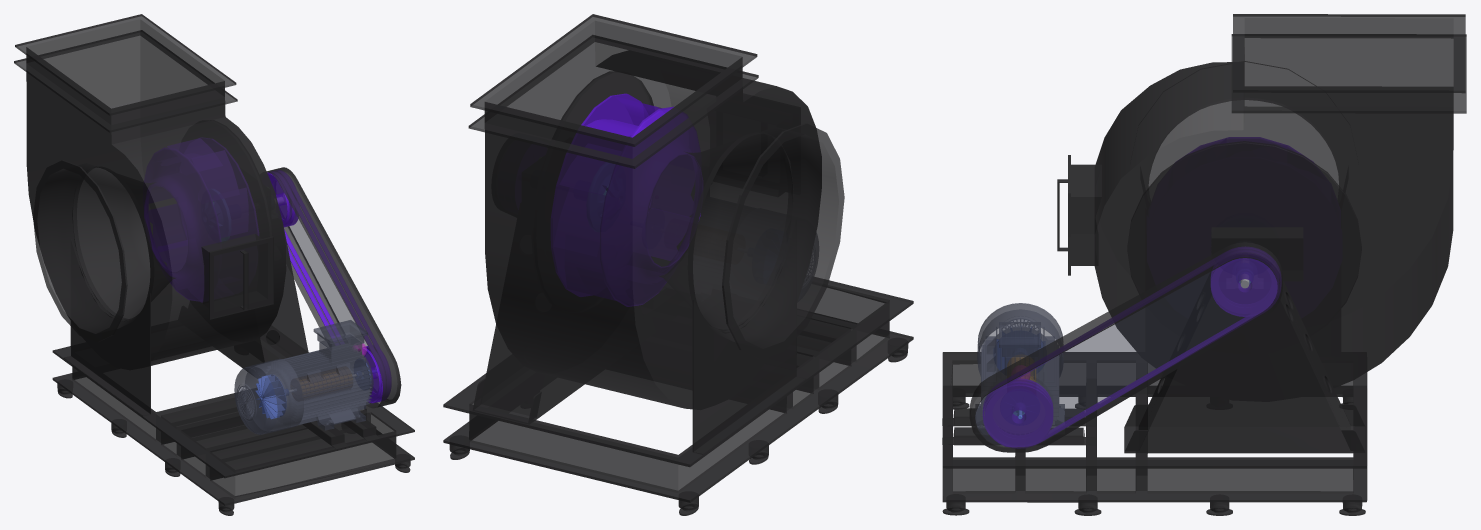
The model's file is newfan1026-movie.glb.
3 renders of one model, left to right at view 1: azimuth 30°, elevation 25°; view 2: azimuth 150°, elevation 25°; view 3: azimuth 270°, elevation 25°, orthographic. The views are drawn at different scales.
Parts seen in each view (by area): view 1: out2.fj, zj, out1.fj, p1.fj, out1.pd, out2.dj, out1.dj, p3.pd, out2.pd, out3.dj, p1.dj, p1.pd (+2 smaller); view 2: out2.fj, zj, out1.fj, p1.fj; view 3: out2.fj, zj, out2.pd, out1.pd, p2.pd, p3.pd, p1.pd, out2.dj, out3.fj, out1.dj, out3.dj.
Part boxes in pixels (box(x1,y1,x2,y2)): out2.fj: box(14, 14, 286, 365); zj: box(52, 221, 414, 515); out1.fj: box(33, 160, 174, 342); p1.fj: box(144, 138, 258, 301); out1.pd: box(266, 167, 401, 408); out2.dj: box(266, 346, 373, 426); out1.dj: box(234, 358, 303, 434); p3.pd: box(267, 170, 390, 403); out2.pd: box(288, 219, 367, 346); out3.dj: box(313, 320, 367, 362); p1.dj: box(255, 374, 286, 419); p1.pd: box(268, 173, 298, 227); out2.fj: box(468, 14, 821, 409); zj: box(443, 220, 913, 515); out1.fj: box(660, 123, 844, 359); p1.fj: box(551, 93, 702, 306); out2.fj: box(1057, 14, 1466, 389); zj: box(942, 272, 1367, 515); out2.pd: box(975, 258, 1277, 447); out1.pd: box(969, 242, 1282, 452); p2.pd: box(984, 378, 1053, 447); p3.pd: box(982, 247, 1281, 448); p1.pd: box(1210, 253, 1278, 316); out2.dj: box(981, 324, 1058, 424); out3.fj: box(1211, 227, 1303, 281); out1.dj: box(977, 303, 1063, 377); out3.dj: box(999, 322, 1040, 375).
Bounding box in the file's own units: 2.55 × 3.64 × 4.43.
